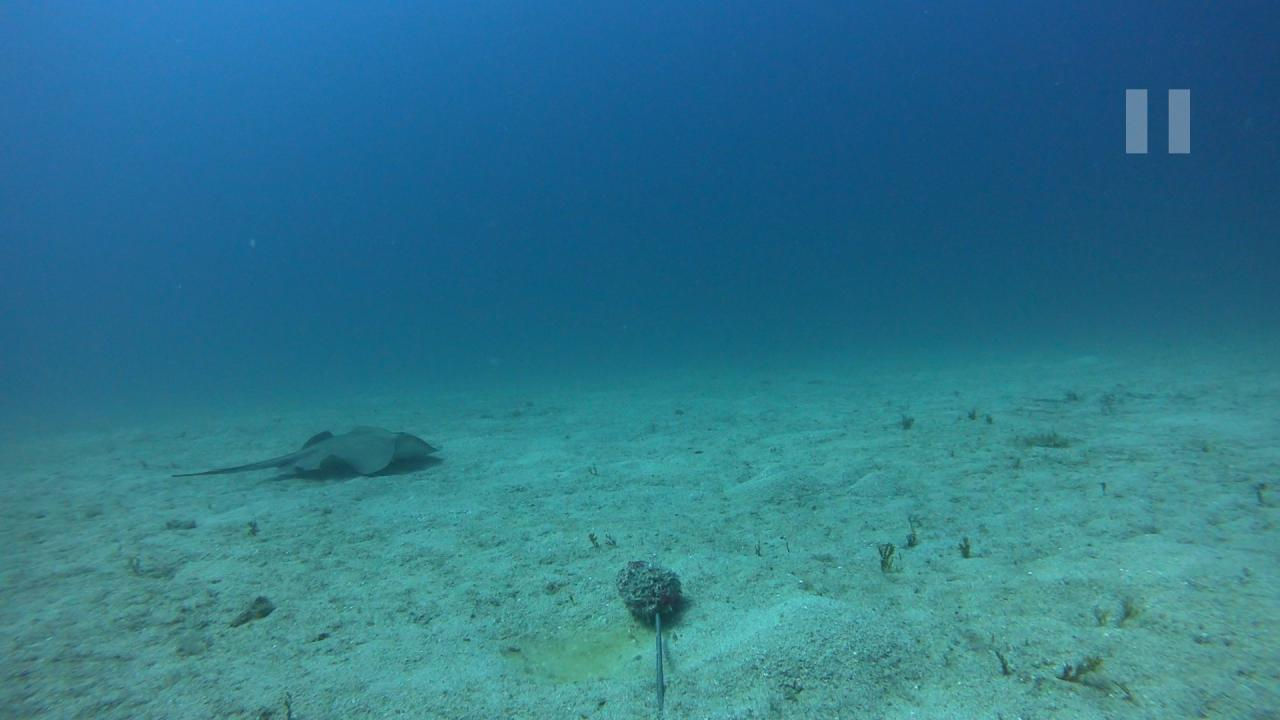dasyatis: (170, 424, 440, 478)
